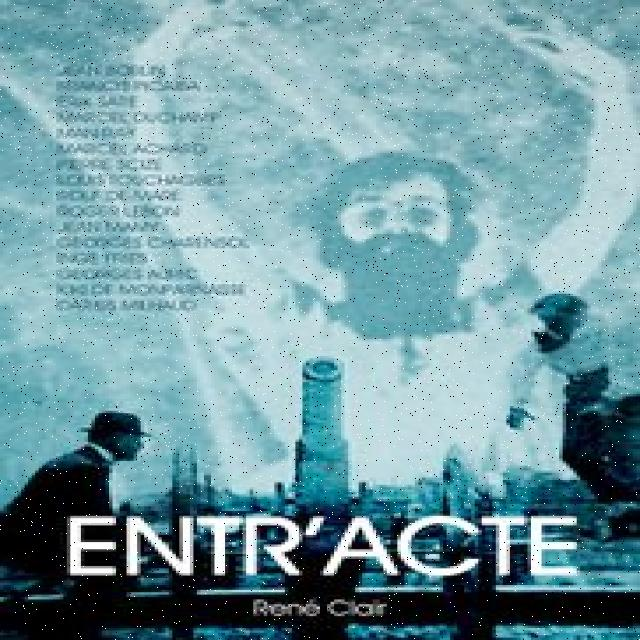movie-judul: (71, 515, 594, 589)
picture: (137, 0, 640, 500), (0, 401, 150, 621)
